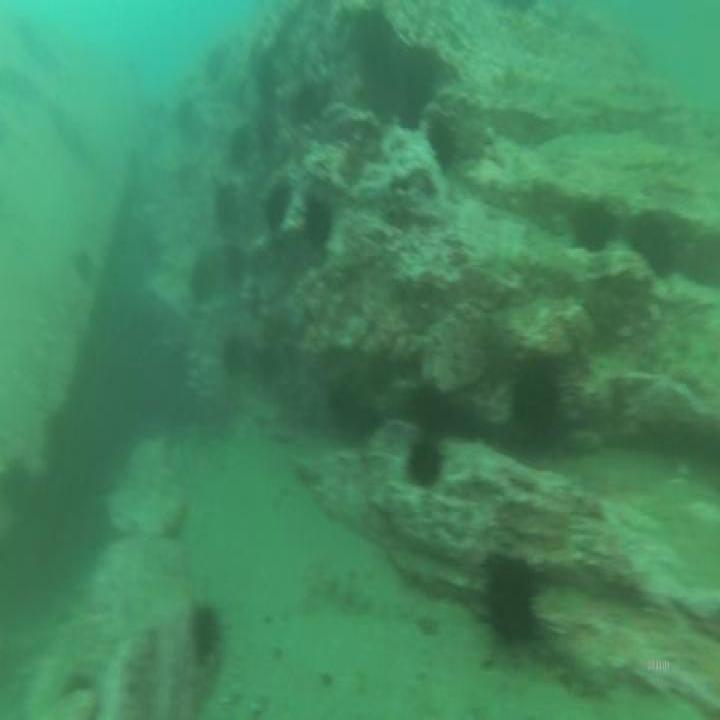echinus: (476, 542, 546, 662), (513, 350, 565, 450), (189, 592, 233, 677), (402, 432, 448, 494), (304, 190, 334, 258), (262, 172, 293, 233), (210, 174, 242, 229), (429, 110, 457, 172), (226, 121, 252, 174)
